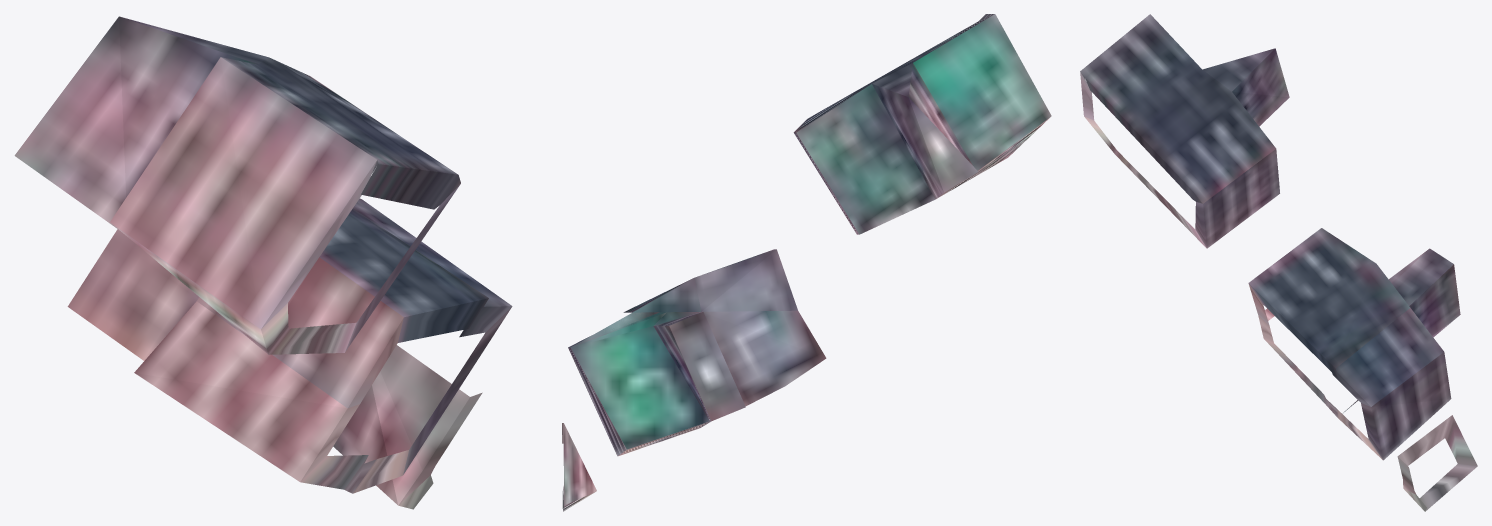
3 renders of one model, left to right at view 1: azimuth 30°, elevation 25°; view 2: azimuth 150°, elevation 25°; view 3: azimuth 270°, elevation 25°, orthographic. The views are drawn at different scales.
Size of the model in its own units: 37.64 by 44.21 by 41.52.
Materials: 1 (1 with a texture image).
